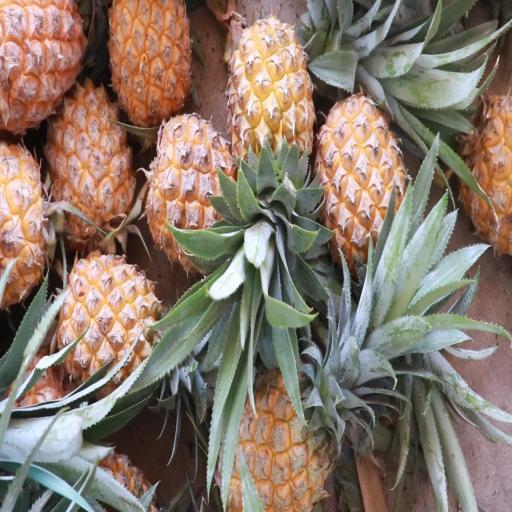Pineapple - v8 v1: (214, 351, 362, 512), (311, 91, 414, 286), (227, 16, 319, 212), (54, 244, 168, 402), (143, 113, 245, 282), (44, 80, 140, 258), (0, 1, 90, 145), (107, 0, 197, 135), (0, 135, 53, 313)
